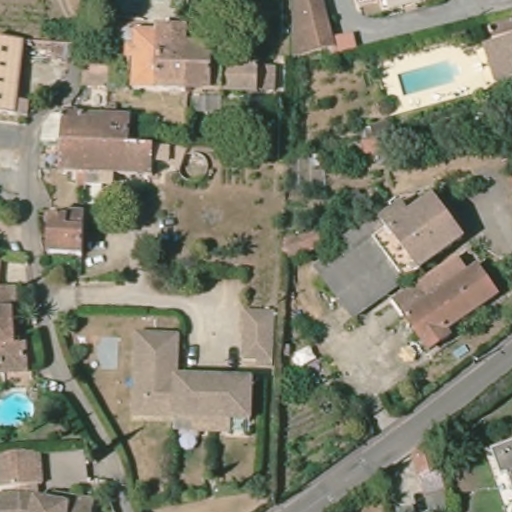pool: (388, 59, 464, 99), (1, 388, 37, 433)
